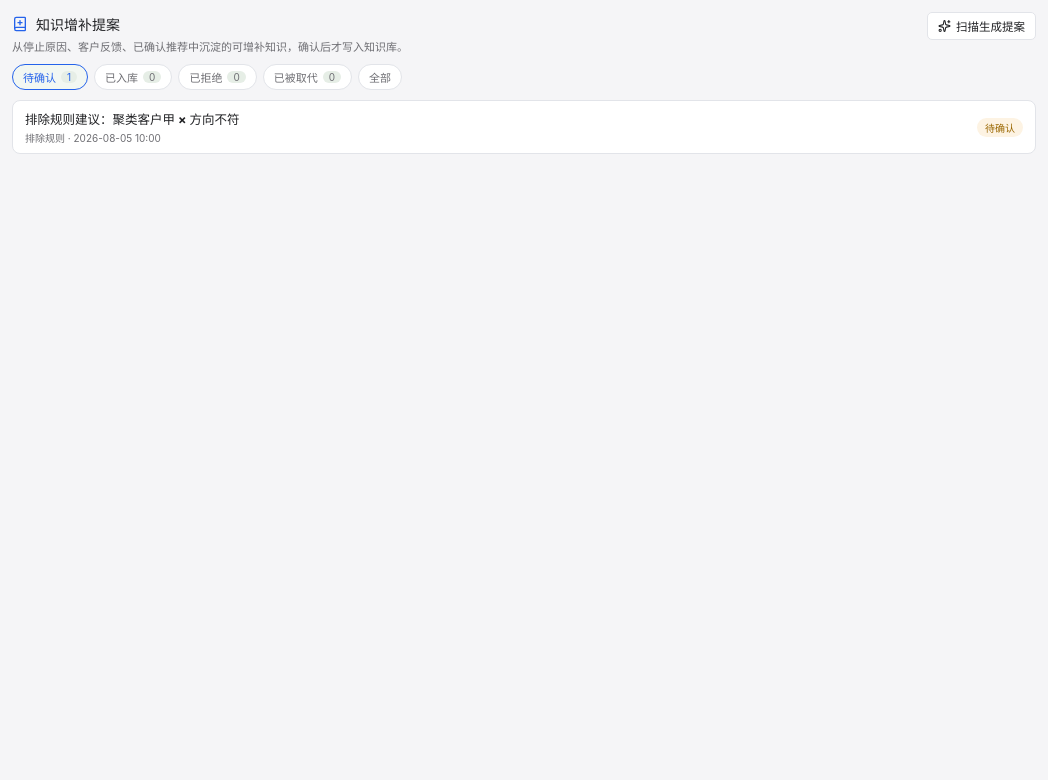
it: 知识增补提案（knowledge_proposal） › 拒绝必须填原因；提交后原因留痕
The image size is (1048, 780).
Step 1. Click the button with aria-label "查看提案：排除规则建议：聚类客户甲 × 方向不符" → (132, 120), box [13, 101, 1035, 153]
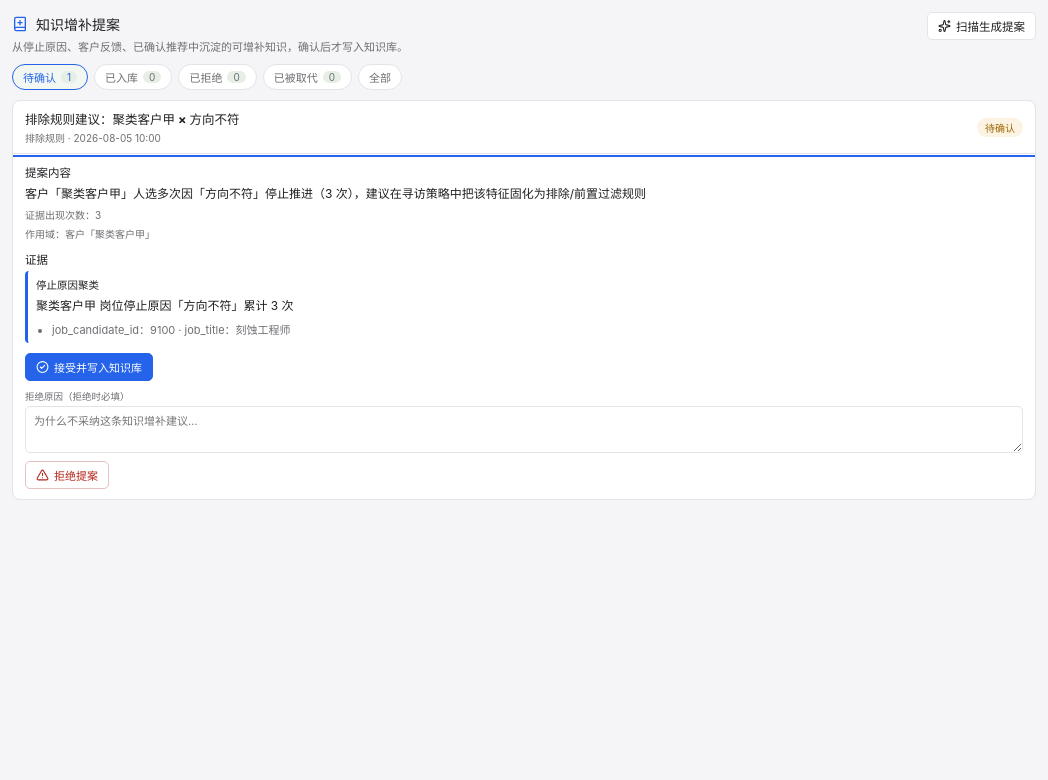
Expected: the heading "提案内容" is shown, [25, 166, 71, 180]
Step 2. Click the button "拒绝提案" → (67, 475), box [25, 461, 109, 489]
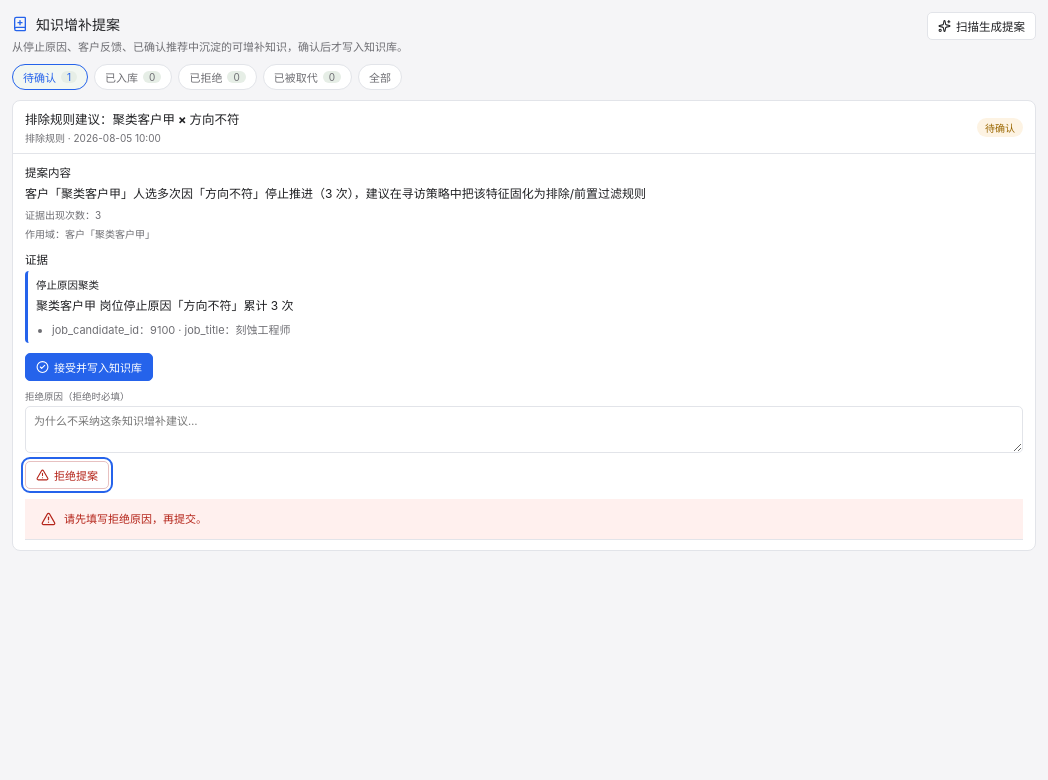
Expected: the message reads "请先填写拒绝原因，再提交。", [64, 512, 207, 526]
Step 3. Type "证据样本太薄" into the text box labelled "拒绝原因" → (524, 430), box [25, 406, 1023, 453]
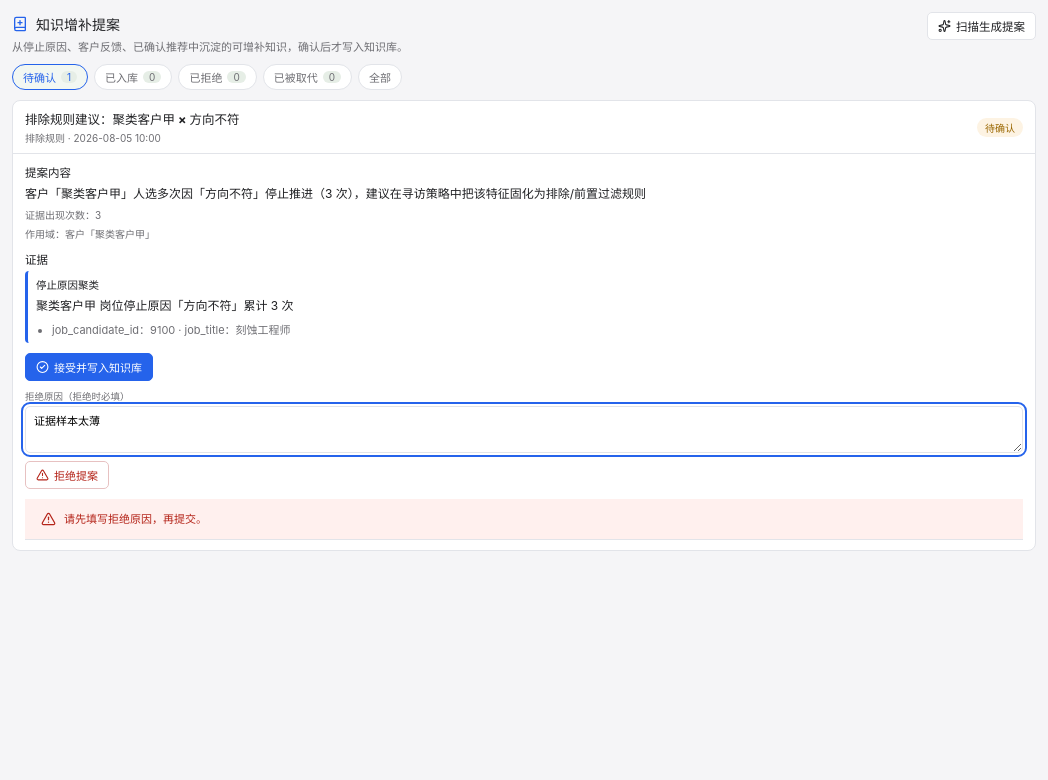
Step 4. Click the button "拒绝提案" → (67, 475), box [25, 461, 109, 489]
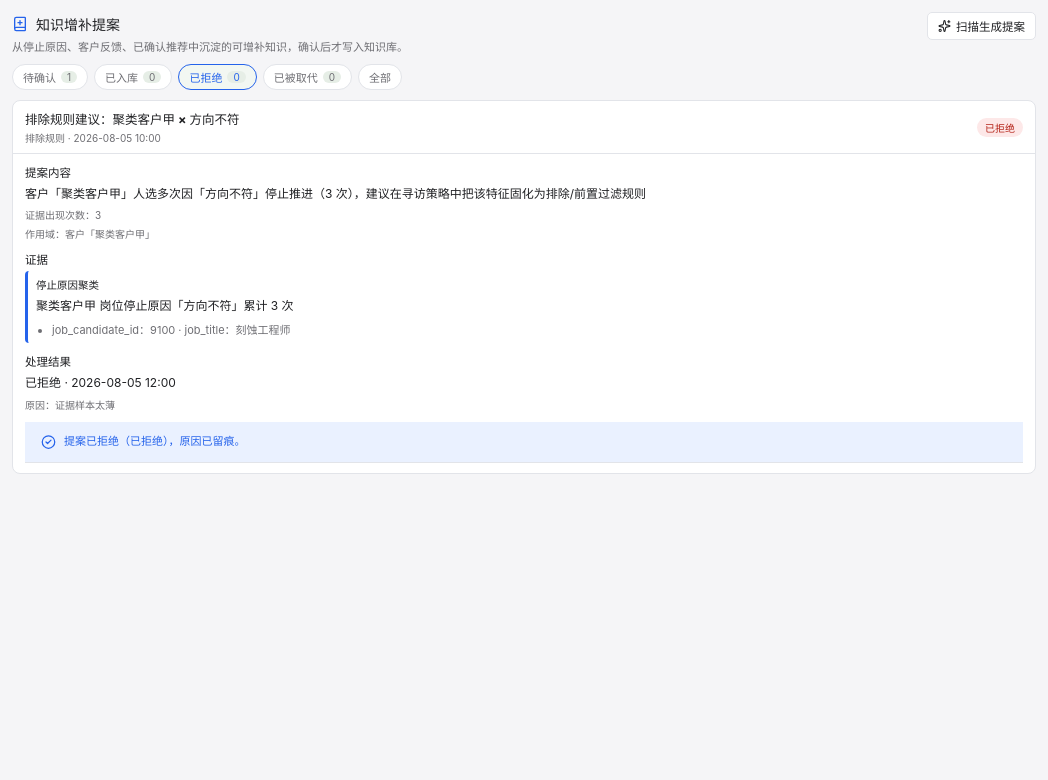
Expected: the text "提案已拒绝（已拒绝），原因已留痕。" is shown, [64, 433, 246, 450]
Expected: the text "原因：证据样本太薄" is shown, [25, 399, 115, 411]
